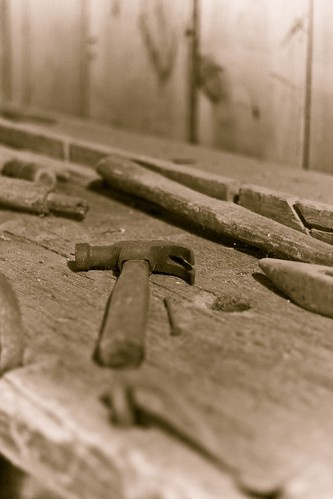hammer: (72, 239, 197, 368)
